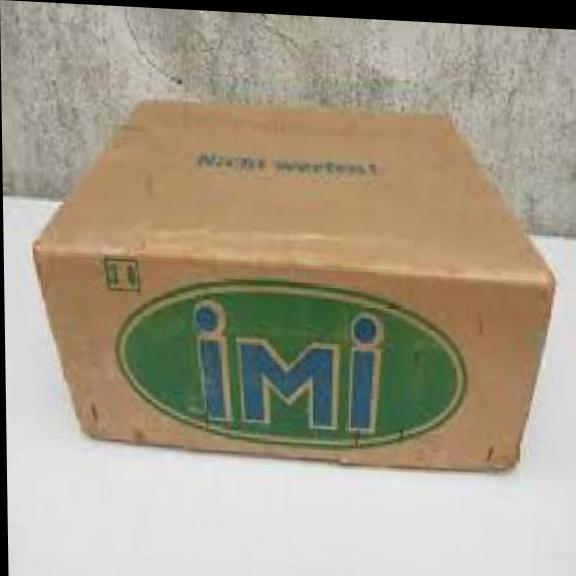Kertas: (34, 102, 553, 469)
